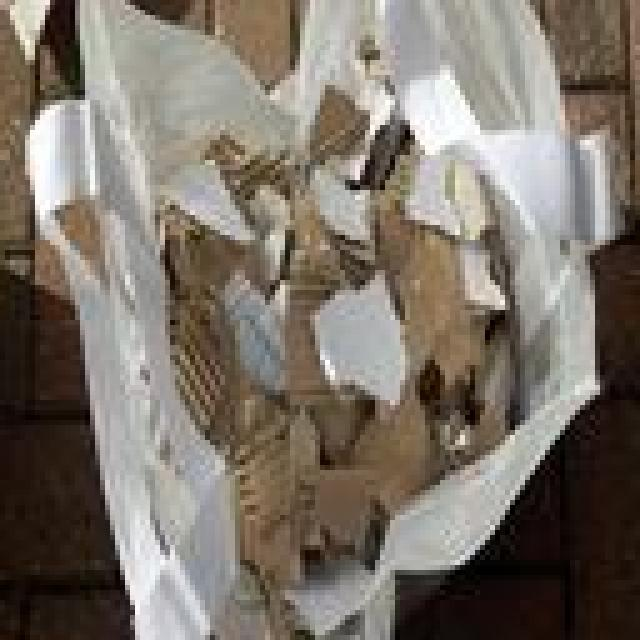cardboard: (370, 195, 475, 380), (415, 315, 520, 465), (305, 265, 405, 405), (280, 290, 365, 445), (160, 195, 270, 300), (225, 390, 315, 510), (205, 270, 290, 395), (335, 395, 430, 500), (295, 170, 390, 270), (275, 170, 345, 300), (195, 130, 295, 220), (330, 45, 390, 190), (240, 505, 305, 635), (300, 75, 380, 170), (295, 465, 375, 560), (165, 300, 225, 415), (285, 555, 365, 630), (360, 110, 410, 200), (50, 190, 100, 280), (390, 150, 445, 230), (460, 230, 505, 310), (445, 155, 490, 235), (200, 400, 235, 440)
